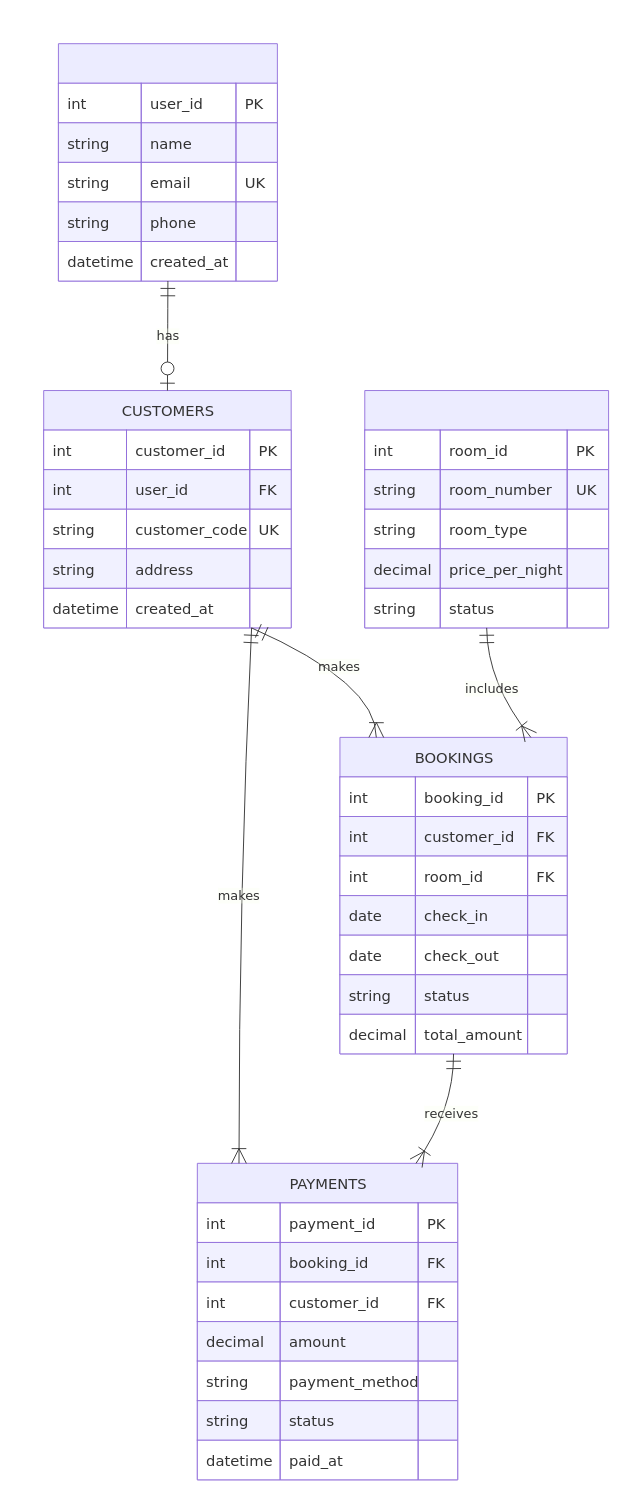
Image size: 625x1496. Some labels were removed from this diagram. Here are the shapes that lost their labels. From the top down, the box of each, then its label:
(58, 43, 277, 281): USERS
(364, 390, 609, 628): ROOMS
